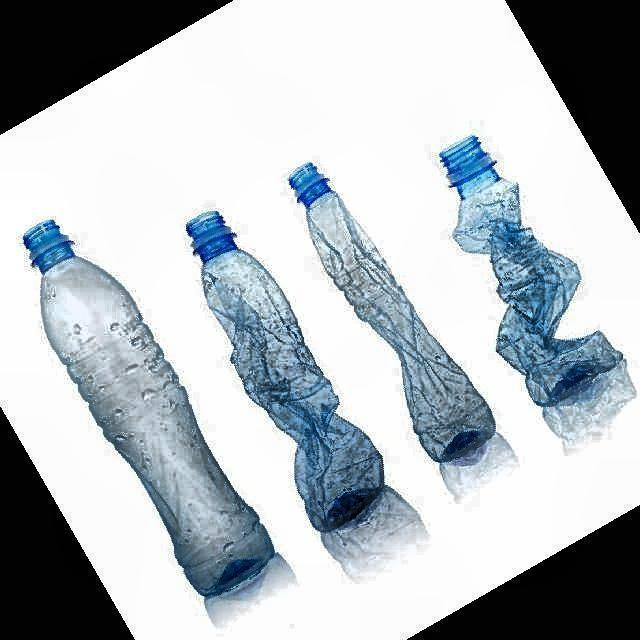plastic: (24, 220, 275, 596), (186, 211, 384, 532), (289, 162, 494, 461), (440, 136, 634, 441)
